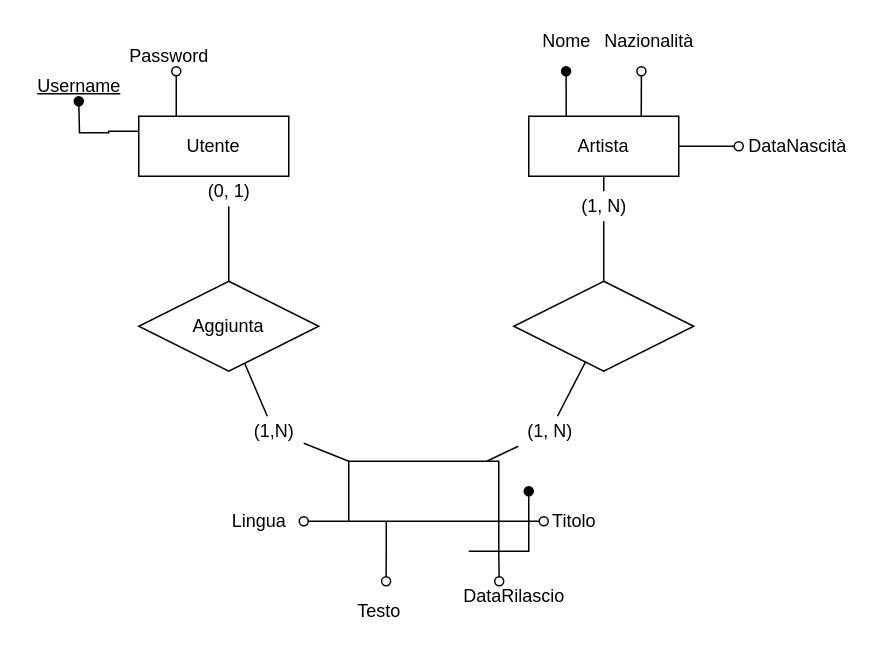
Some shapes in this 882 by 651 pixel diagram are drawn without their labels. The shapes that lost their labels are listed below. From the top down, each one's centre as x and y in pixels, then its label:
At (x=603, y=325): "Esecuzione".
At (x=423, y=490): "Canzone".
